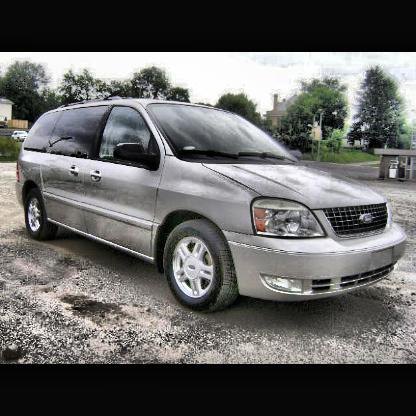Ford Freestar Minivan 2007: (14, 95, 409, 315)
